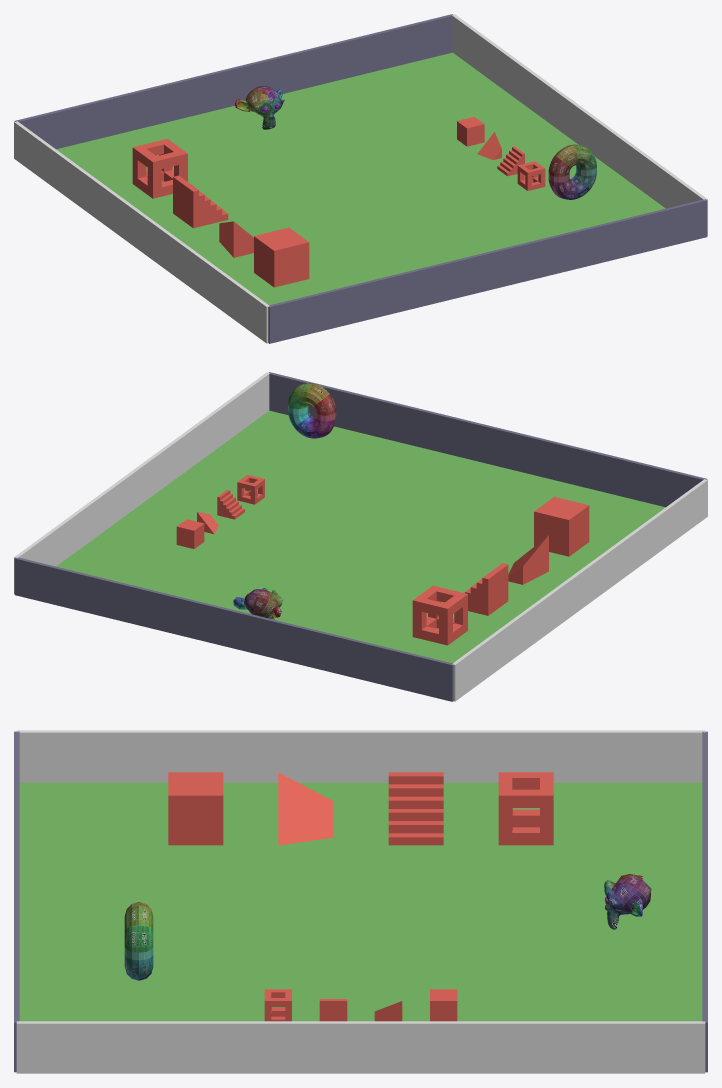
The model's file is test_level.glb.
3 views of the same model, one above another, from view 1: azimuth 30°, elevation 25°; view 2: azimuth 150°, elevation 25°; view 3: azimuth 270°, elevation 25° (orthographic). The views are drawn at different scales.
Parts seen in each view (by area): view 1: Plane, Cube.002, Cube, Cubes, Cubes.001, Torus, Suzanne; view 2: Plane, Cube.002, Cube, Cubes, Cubes.001, Torus, Suzanne; view 3: Plane, Cube, Cubes, Cube.002, Cubes.001, Torus, Suzanne.
Part boxes in pixels (x1,y1,x2,y2): Plane: [56, 52, 665, 305]; Cube.002: [14, 14, 707, 343]; Cube: [14, 14, 707, 343]; Cubes: [132, 139, 309, 287]; Cubes.001: [457, 117, 545, 190]; Torus: [548, 144, 596, 199]; Suzanne: [235, 86, 284, 129]; Plane: [56, 410, 665, 663]; Cube.002: [14, 372, 707, 701]; Cube: [14, 372, 707, 701]; Cubes: [412, 497, 589, 645]; Cubes.001: [176, 475, 264, 548]; Torus: [288, 383, 336, 438]; Suzanne: [233, 588, 282, 619]; Plane: [19, 782, 702, 1021]; Cube: [16, 730, 705, 1073]; Cubes: [168, 772, 553, 845]; Cube.002: [14, 731, 707, 1072]; Cubes.001: [264, 989, 457, 1021]; Torus: [124, 902, 153, 980]; Suzanne: [604, 874, 651, 929].
Size of the model in its own units: 25.2 by 4.34 by 25.2.
Materials: 4 (1 with a texture image).
